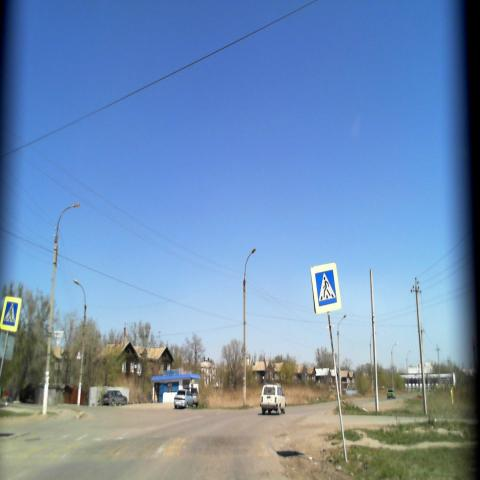5_19_1: (311, 260, 339, 313), (0, 296, 22, 334)
